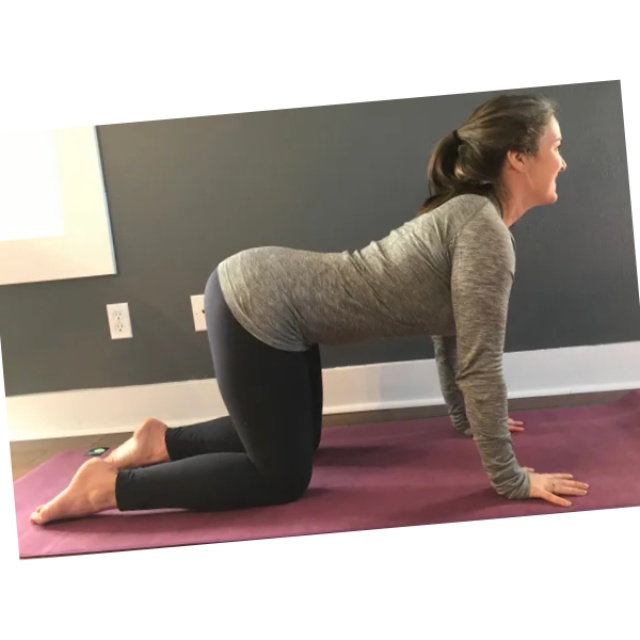Cow_Pose: (28, 87, 591, 525)
